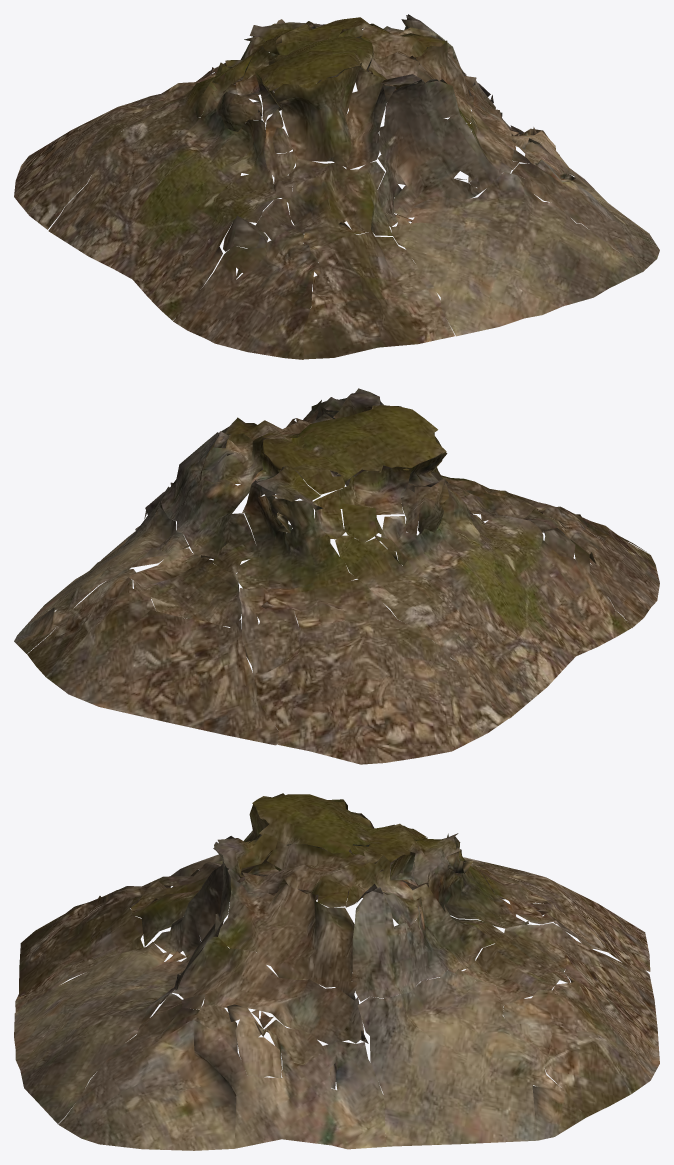
The model's file is stump_a.glb.
The picture shows the model from 3 angles, top to bottom: view 1: azimuth 30°, elevation 25°; view 2: azimuth 150°, elevation 25°; view 3: azimuth 270°, elevation 25°; orthographic projection. The views are drawn at different scales.
Parts seen in each view (by area): view 1: tree_stump_01; view 2: tree_stump_01; view 3: tree_stump_01.
Boxes of the visible parts, x1,y1,x2,y2 form: tree_stump_01: [14, 14, 659, 359]; tree_stump_01: [14, 388, 659, 764]; tree_stump_01: [14, 793, 659, 1150].
Size of the model in its own units: 0.896 by 0.3591 by 1.
1 material, 1 textured.
